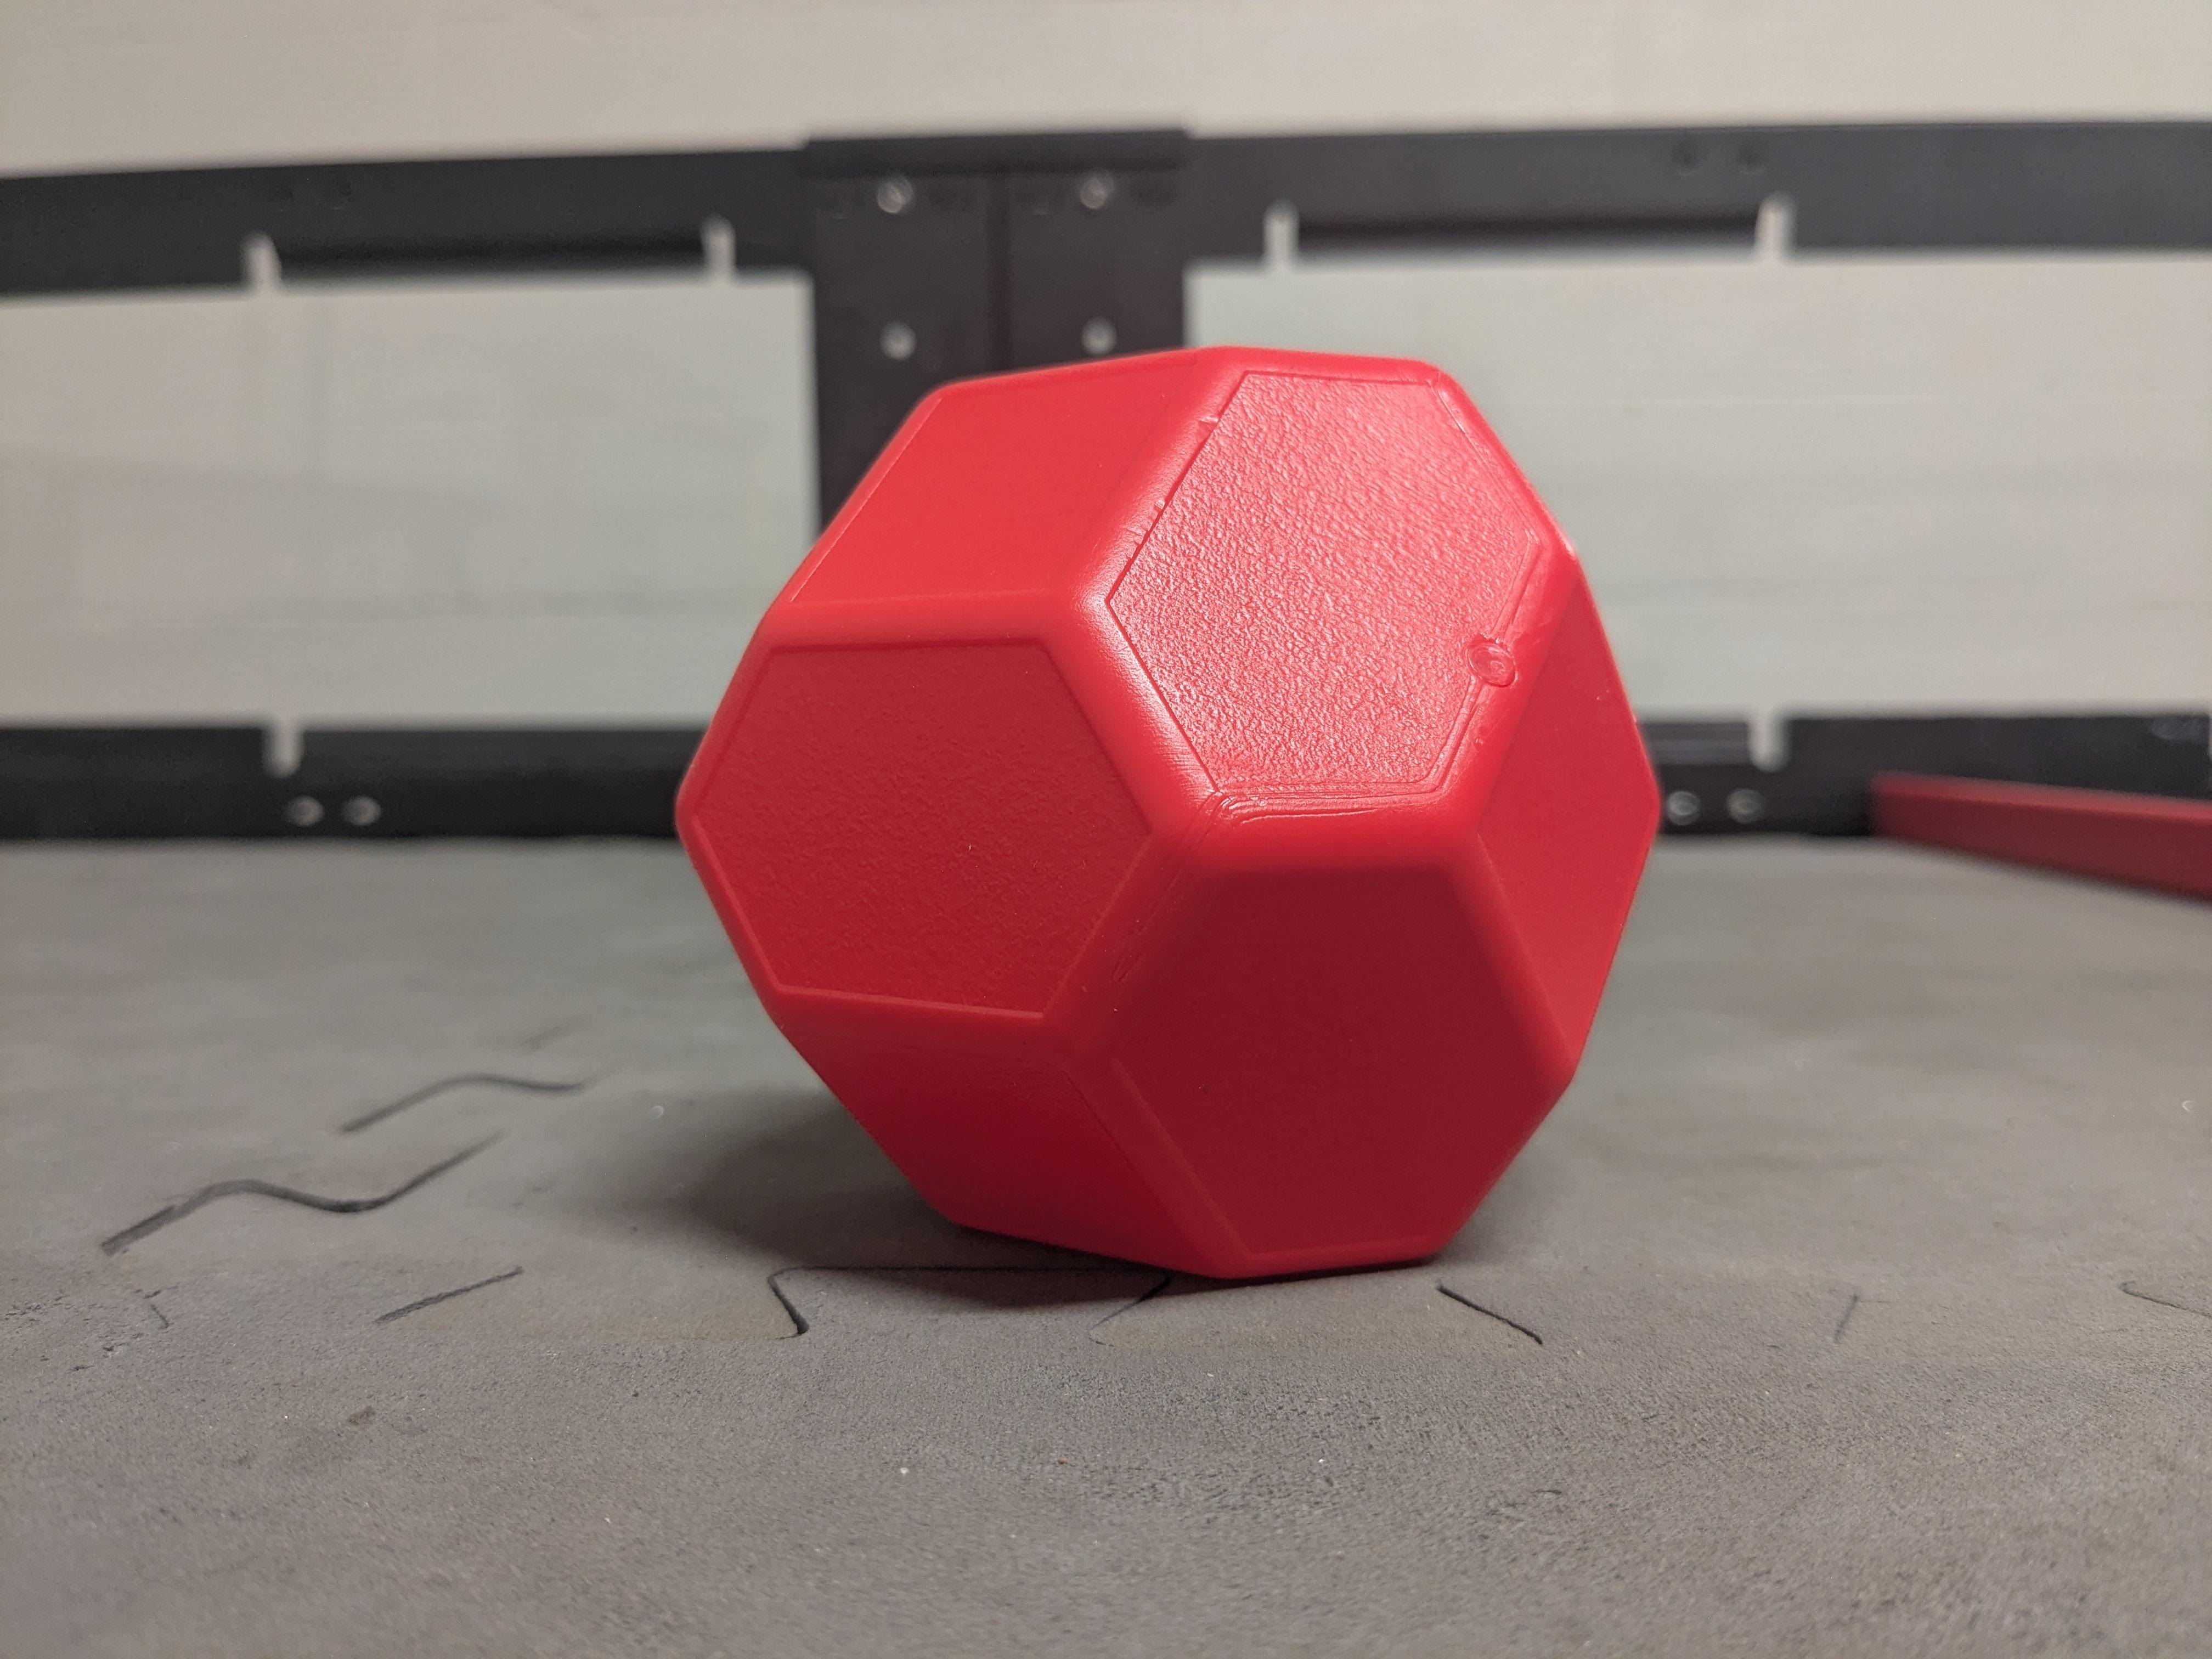Vex-Pieces-RED: (678, 349, 1656, 1277)
